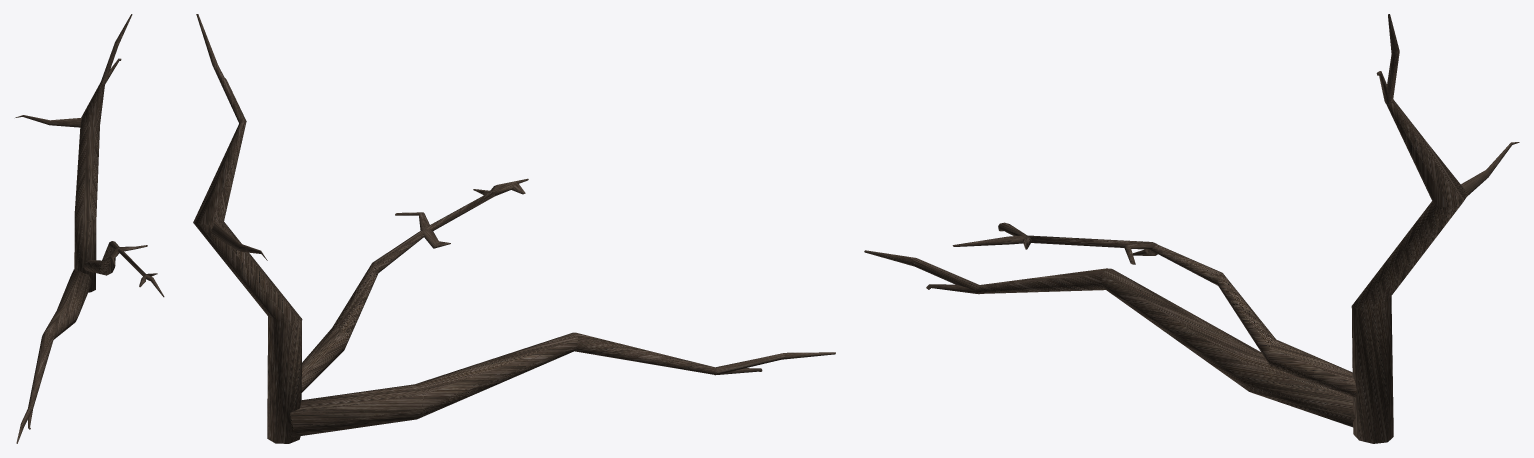
Rendered from grande branche.fbx.
3 views of the same model, side by side, from view 1: azimuth 30°, elevation 25°; view 2: azimuth 150°, elevation 25°; view 3: azimuth 270°, elevation 25° (orthographic). The views are drawn at different scales.
Visible parts, largest first — view 1: grande branche; view 2: grande branche; view 3: grande branche.
Part boxes in pixels (x1,y1,x2,y2): grande branche: [15, 14, 164, 443]; grande branche: [193, 14, 835, 443]; grande branche: [864, 14, 1519, 443].
Size of the model in its own units: 88.42 by 85.82 by 107.
